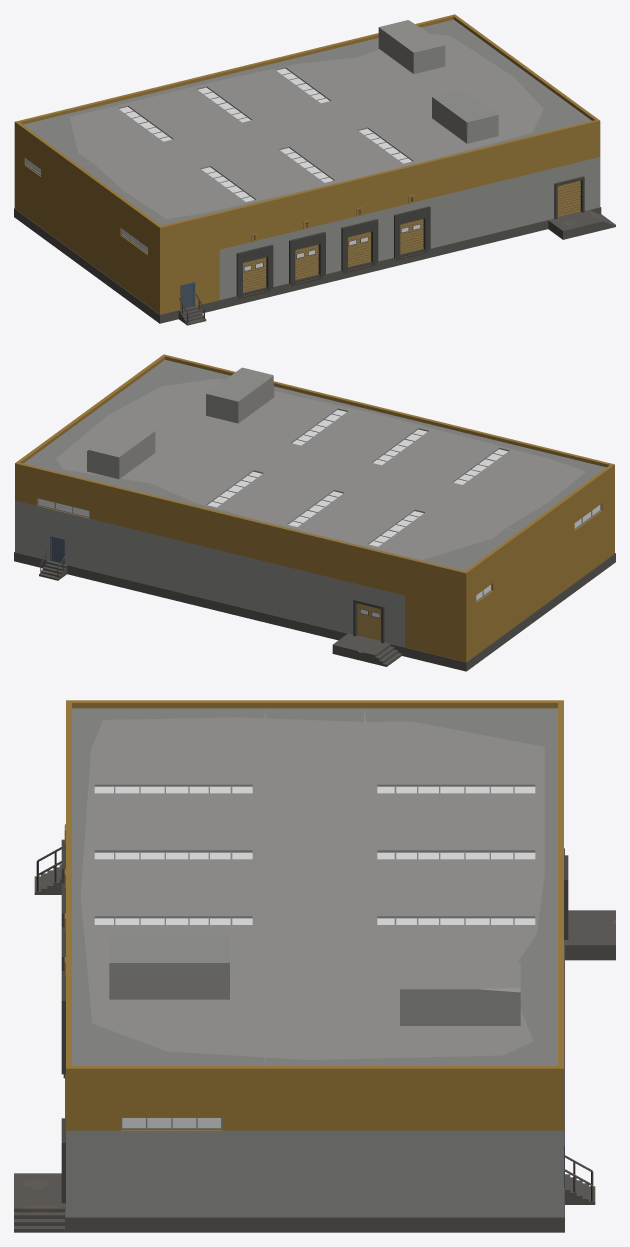
Rendered from SM_Bldg_City_Airport_Cargo_Warehouse.fbx.
3 views of the same model, one above another, from view 1: azimuth 30°, elevation 25°; view 2: azimuth 150°, elevation 25°; view 3: azimuth 270°, elevation 25° (orthographic). The views are drawn at different scales.
Visible parts, largest first — view 1: SM_Bldg_City_Airport_Cargo_Warehouse; view 2: SM_Bldg_City_Airport_Cargo_Warehouse; view 3: SM_Bldg_City_Airport_Cargo_Warehouse.
Boxes of the visible parts, x1=… form: SM_Bldg_City_Airport_Cargo_Warehouse: x1=14, y1=14, x2=615, y2=325; SM_Bldg_City_Airport_Cargo_Warehouse: x1=14, y1=354, x2=615, y2=671; SM_Bldg_City_Airport_Cargo_Warehouse: x1=14, y1=700, x2=615, y2=1232.
Bounding box in the file's own units: 4210 × 1036 × 2900.
